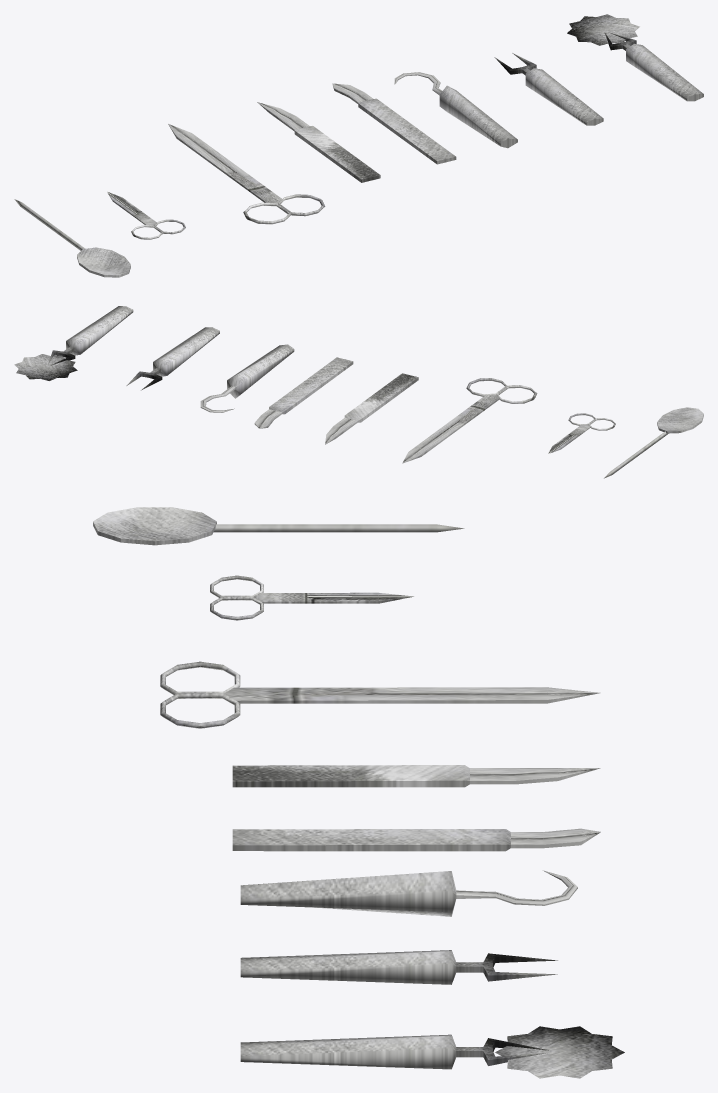
File: outilschirurgie.fbx
The picture shows the model from 3 angles, top to bottom: view 1: azimuth 30°, elevation 25°; view 2: azimuth 150°, elevation 25°; view 3: azimuth 270°, elevation 25°; orthographic projection. The views are drawn at different scales.
Parts seen in each view (by area): view 1: roulette, grandciseaux, coutelet, scalpel, crochet, pointedouble, cuillere, petitciseau; view 2: roulette, grandciseaux, coutelet, scalpel, crochet, pointedouble, cuillere, petitciseau; view 3: roulette, crochet, coutelet, grandciseaux, pointedouble, scalpel, cuillere, petitciseau.
Boxes of the visible parts, x1,y1,x2,y2 form: roulette: (567,14,703,101); grandciseaux: (168,124,325,224); coutelet: (332,83,456,164); scalpel: (257,102,380,182); crochet: (394,72,517,148); pointedouble: (494,53,603,125); cuillere: (14,199,130,277); petitciseau: (107,191,185,239); roulette: (14,306,133,380); grandciseaux: (402,378,537,463); coutelet: (254,357,353,428); scalpel: (325,373,418,444); crochet: (200,344,294,412); pointedouble: (126,327,219,390); cuillere: (604,407,703,478); petitciseau: (548,413,615,453); roulette: (240,1026,624,1078); crochet: (240,870,577,916); coutelet: (232,828,600,851); grandciseaux: (160,661,600,728); pointedouble: (240,950,557,984); scalpel: (232,765,600,787); cuillere: (93,507,464,545); petitciseau: (210,575,414,620).
Bounding box in the file's own units: 89.31 × 3.4 × 35.66.
